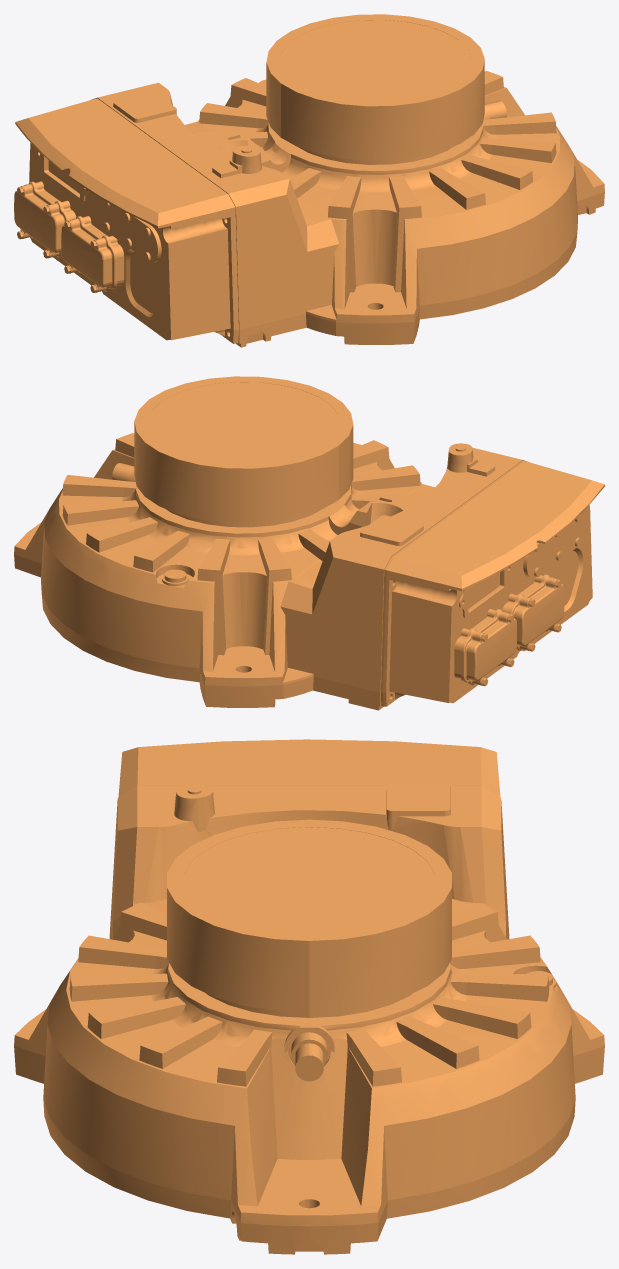
3 renders of one model, top to bottom at view 1: azimuth 30°, elevation 25°; view 2: azimuth 150°, elevation 25°; view 3: azimuth 270°, elevation 25°, orthographic. The views are drawn at different scales.
Visible parts, largest first — view 1: mesh_0; view 2: mesh_0; view 3: mesh_0.
Part boxes in pixels (box(x1,y1,x2,y2)): mesh_0: box(14, 14, 604, 347); mesh_0: box(14, 376, 604, 710); mesh_0: box(14, 739, 604, 1254).
Bounding box in the file's own units: 0.676 × 0.2321 × 0.5145.
